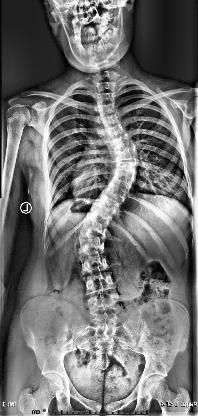Vertebrae: (82, 256, 114, 276), (85, 274, 116, 294), (78, 234, 108, 254), (87, 294, 120, 312), (86, 204, 112, 226), (80, 220, 108, 238), (96, 193, 122, 211), (104, 183, 130, 201), (109, 179, 134, 193), (112, 136, 132, 150), (116, 172, 136, 184), (97, 104, 117, 115), (118, 161, 136, 173), (107, 125, 127, 135), (118, 150, 136, 160), (103, 116, 119, 127)
